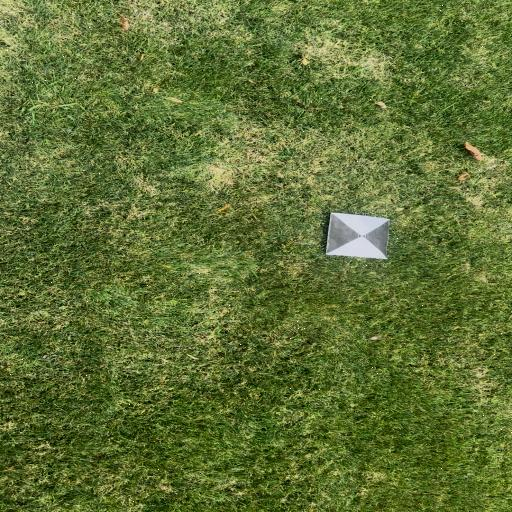target: (329, 213, 392, 258)
